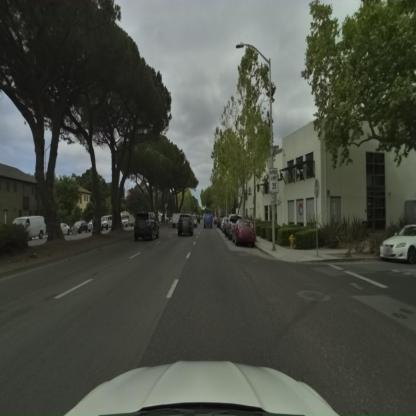car: (380, 224, 415, 266), (14, 215, 48, 245), (134, 211, 159, 241), (232, 219, 256, 247), (176, 216, 192, 236), (70, 221, 92, 235), (120, 211, 132, 229), (101, 215, 113, 233)
